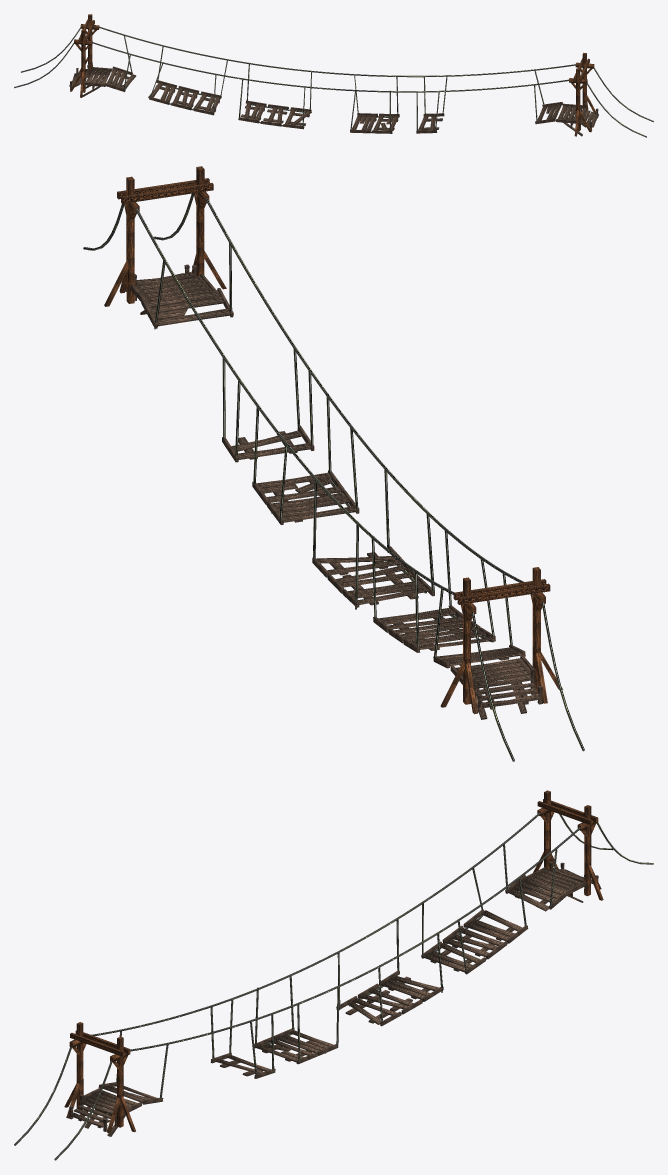
File: RM_PLAYSURFACE_FINAL_RM_SUSPENSION_BRIDGE.obj
3 renders of one model, top to bottom at view 1: azimuth 30°, elevation 25°; view 2: azimuth 150°, elevation 25°; view 3: azimuth 270°, elevation 25°, orthographic. The views are drawn at different scales.
Visible parts, largest first — view 1: spension_bridge; view 2: spension_bridge; view 3: spension_bridge.
Part boxes in pixels (x1=…): spension_bridge: x1=14, y1=14, x2=653, y2=137; spension_bridge: x1=83, y1=166, x2=584, y2=761; spension_bridge: x1=14, y1=790, x2=653, y2=1160.
Size of the model in its own units: 3785 by 660 by 3290.
